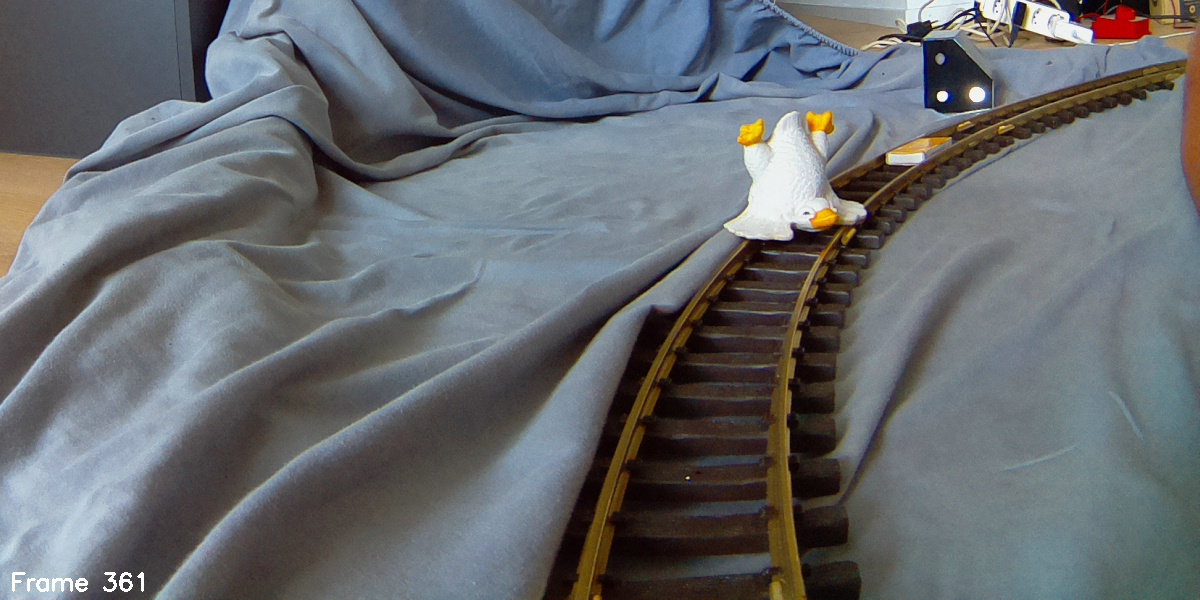Ente: (721, 105, 869, 252)
Halt: (922, 30, 996, 112)
